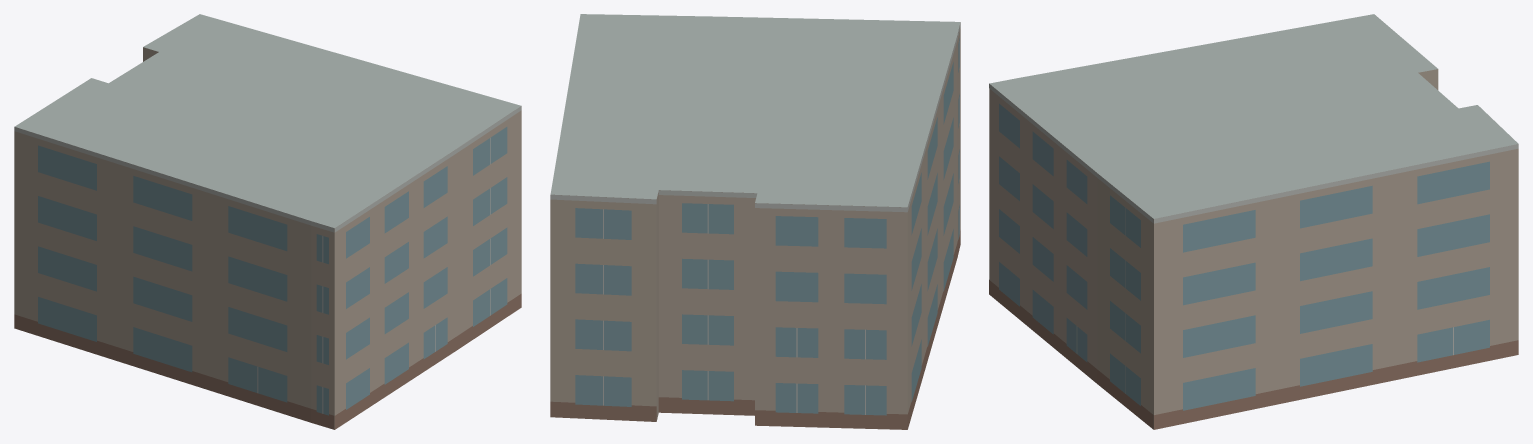
The model's file is survey-upis-32674810.glb.
3 views of the same model, side by side, from view 1: azimuth 30°, elevation 25°; view 2: azimuth 150°, elevation 25°; view 3: azimuth 270°, elevation 25° (orthographic). The views are drawn at different scales.
Visible parts, largest first — view 1: survey-upis-32674810.tmp; view 2: survey-upis-32674810.tmp; view 3: survey-upis-32674810.tmp.
Boxes of the visible parts, <box> form: survey-upis-32674810.tmp: <box>14,14,521,429</box>; survey-upis-32674810.tmp: <box>550,14,960,429</box>; survey-upis-32674810.tmp: <box>989,14,1518,429</box>.
Bounding box in the file's own units: 22.94 × 11 × 25.04.
